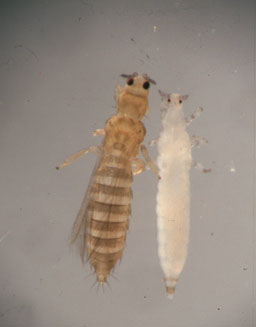Thrips: (76, 59, 155, 298), (141, 83, 211, 299)
